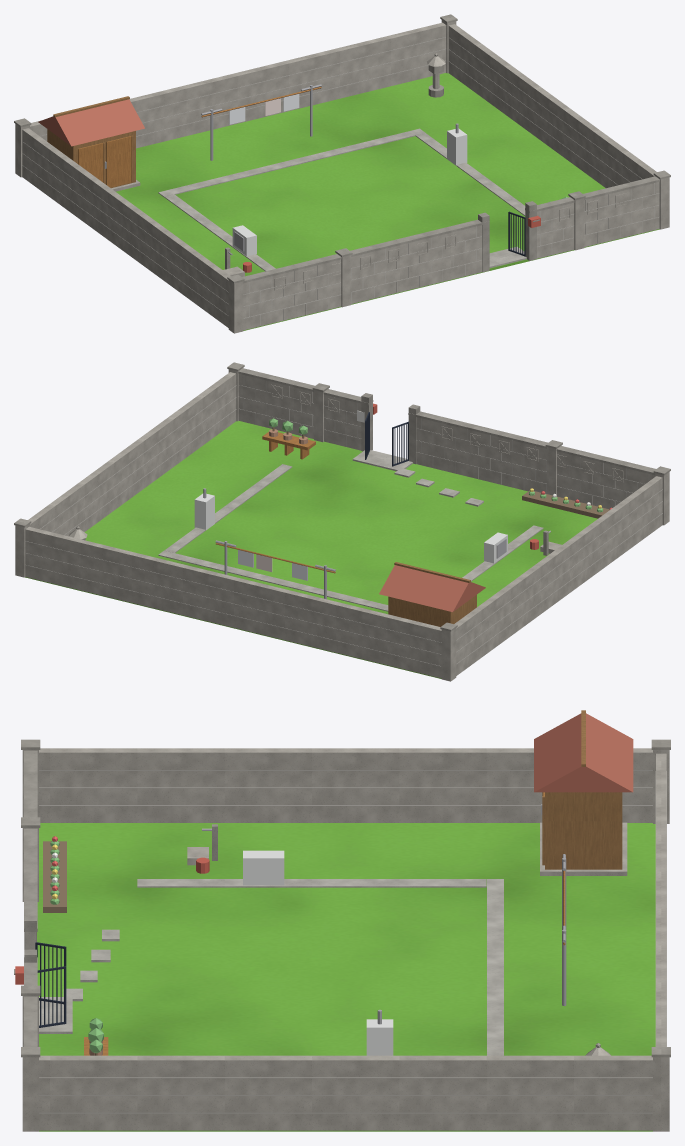
The model's file is environment.glb.
3 views of the same model, one above another, from view 1: azimuth 30°, elevation 25°; view 2: azimuth 150°, elevation 25°; view 3: azimuth 270°, elevation 25° (orthographic). The views are drawn at different scales.
Visible parts, largest first — view 1: lantern_cap, yard, joint_h_back_1, gate_post_l, gate_apron, shed_roof, bonsai_bench, shed_door_frame_0, ac_unit, ac_grille, gate_l_bar_1, laundry_towel_0; view 2: lantern_cap, yard, joint_h_back_1, gate_apron, gate_post_l, shed_roof, shed_door_frame_0, ac_unit, bonsai_bench, flowerbed_soil, gate_l_bar_1, ac_grille (+1 smaller); view 3: yard, lantern_cap, gate_apron, shed_roof, shed_door_frame_0, joint_h_back_1, gate_post_l, ac_unit, gate_l_bar_1, flowerbed_soil, bonsai_top_0, ac_grille.
Boxes of the visible parts, x1,y1,x2,y2 form: lantern_cap: (15, 20, 669, 333); yard: (116, 73, 659, 330); joint_h_back_1: (22, 37, 659, 325); gate_post_l: (14, 14, 670, 283); gate_apron: (158, 128, 526, 271); shed_roof: (38, 99, 144, 146); bonsai_bench: (78, 86, 321, 187); shed_door_frame_0: (47, 96, 135, 188); ac_unit: (232, 128, 467, 256); ac_grille: (104, 84, 458, 255); gate_l_bar_1: (508, 211, 525, 256); laundry_towel_0: (229, 94, 299, 124); lantern_cap: (15, 369, 669, 681); yard: (25, 421, 597, 678); joint_h_back_1: (25, 375, 662, 666); gate_apron: (158, 450, 543, 611); gate_post_l: (14, 362, 670, 631); shed_roof: (379, 565, 485, 612); shed_door_frame_0: (388, 562, 476, 626); ac_unit: (194, 493, 507, 563); bonsai_bench: (215, 432, 335, 573); flowerbed_soil: (522, 490, 609, 518); gate_l_bar_1: (365, 412, 408, 466); ac_grille: (203, 488, 550, 599); yard: (37, 823, 655, 1131); lantern_cap: (22, 748, 669, 1131); gate_apron: (39, 879, 503, 1055); shed_roof: (534, 713, 633, 792); shed_door_frame_0: (542, 710, 622, 869); joint_h_back_1: (39, 770, 666, 1113); gate_post_l: (14, 739, 670, 1057); ac_unit: (243, 850, 393, 1055); gate_l_bar_1: (35, 942, 66, 1027); flowerbed_soil: (43, 841, 66, 912); bonsai_top_0: (50, 840, 103, 1053); ac_grille: (202, 804, 566, 1024).
Size of the model in its own units: 15.38 by 2.68 by 13.55.
22 materials, 6 textured.
